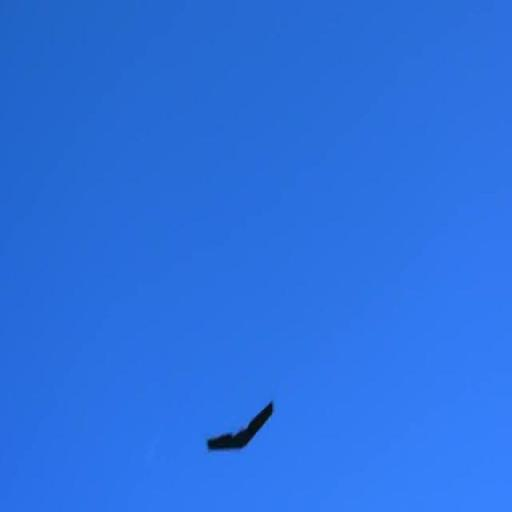uav: (206, 397, 276, 462)
